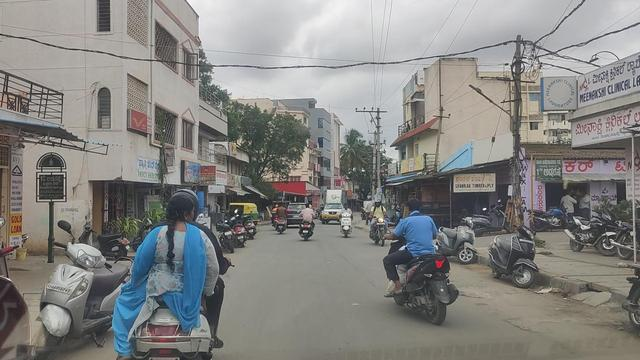LMV: (137, 187, 229, 360), (385, 199, 449, 327), (300, 203, 318, 242)
RoadDamages: (494, 306, 546, 341), (458, 282, 497, 304)
